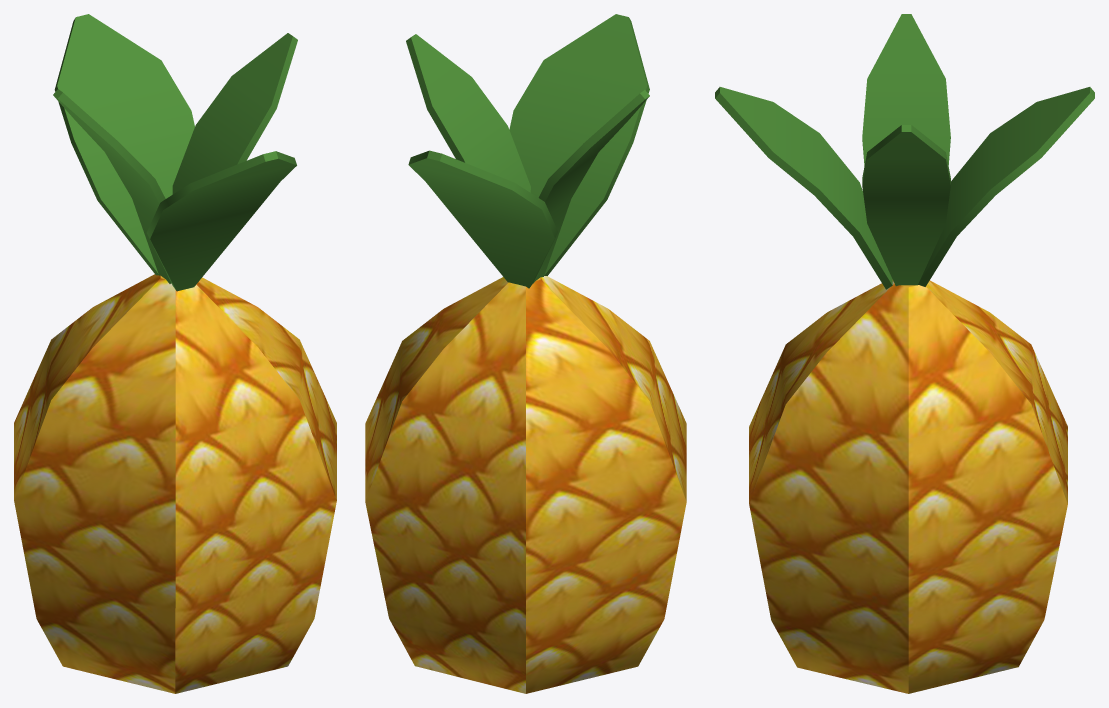
Rendered from Pineapple model.fbx.
The picture shows the model from 3 angles, left to right: view 1: azimuth 30°, elevation 25°; view 2: azimuth 150°, elevation 25°; view 3: azimuth 270°, elevation 25°; orthographic projection.
Parts seen in each view (by area): view 1: Pineapple; view 2: Pineapple; view 3: Pineapple.
Part boxes in pixels (box(x1,y1,x2,y2)): Pineapple: box(14, 14, 336, 693); Pineapple: box(365, 14, 686, 693); Pineapple: box(715, 14, 1094, 693).
Bounding box in the file's own units: 2.7 × 4.98 × 2.78.
Materials: 1 (1 with a texture image).
